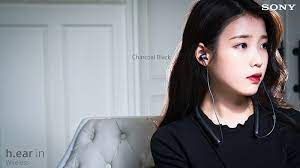earphone: (195, 42, 210, 67)
